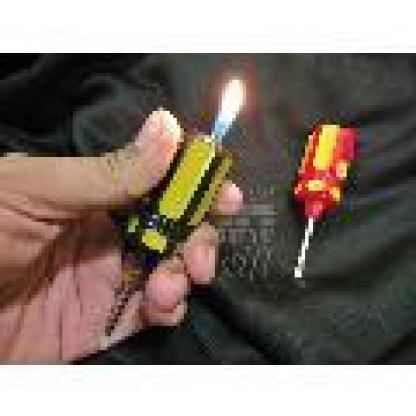Fire: (216, 71, 246, 137)
